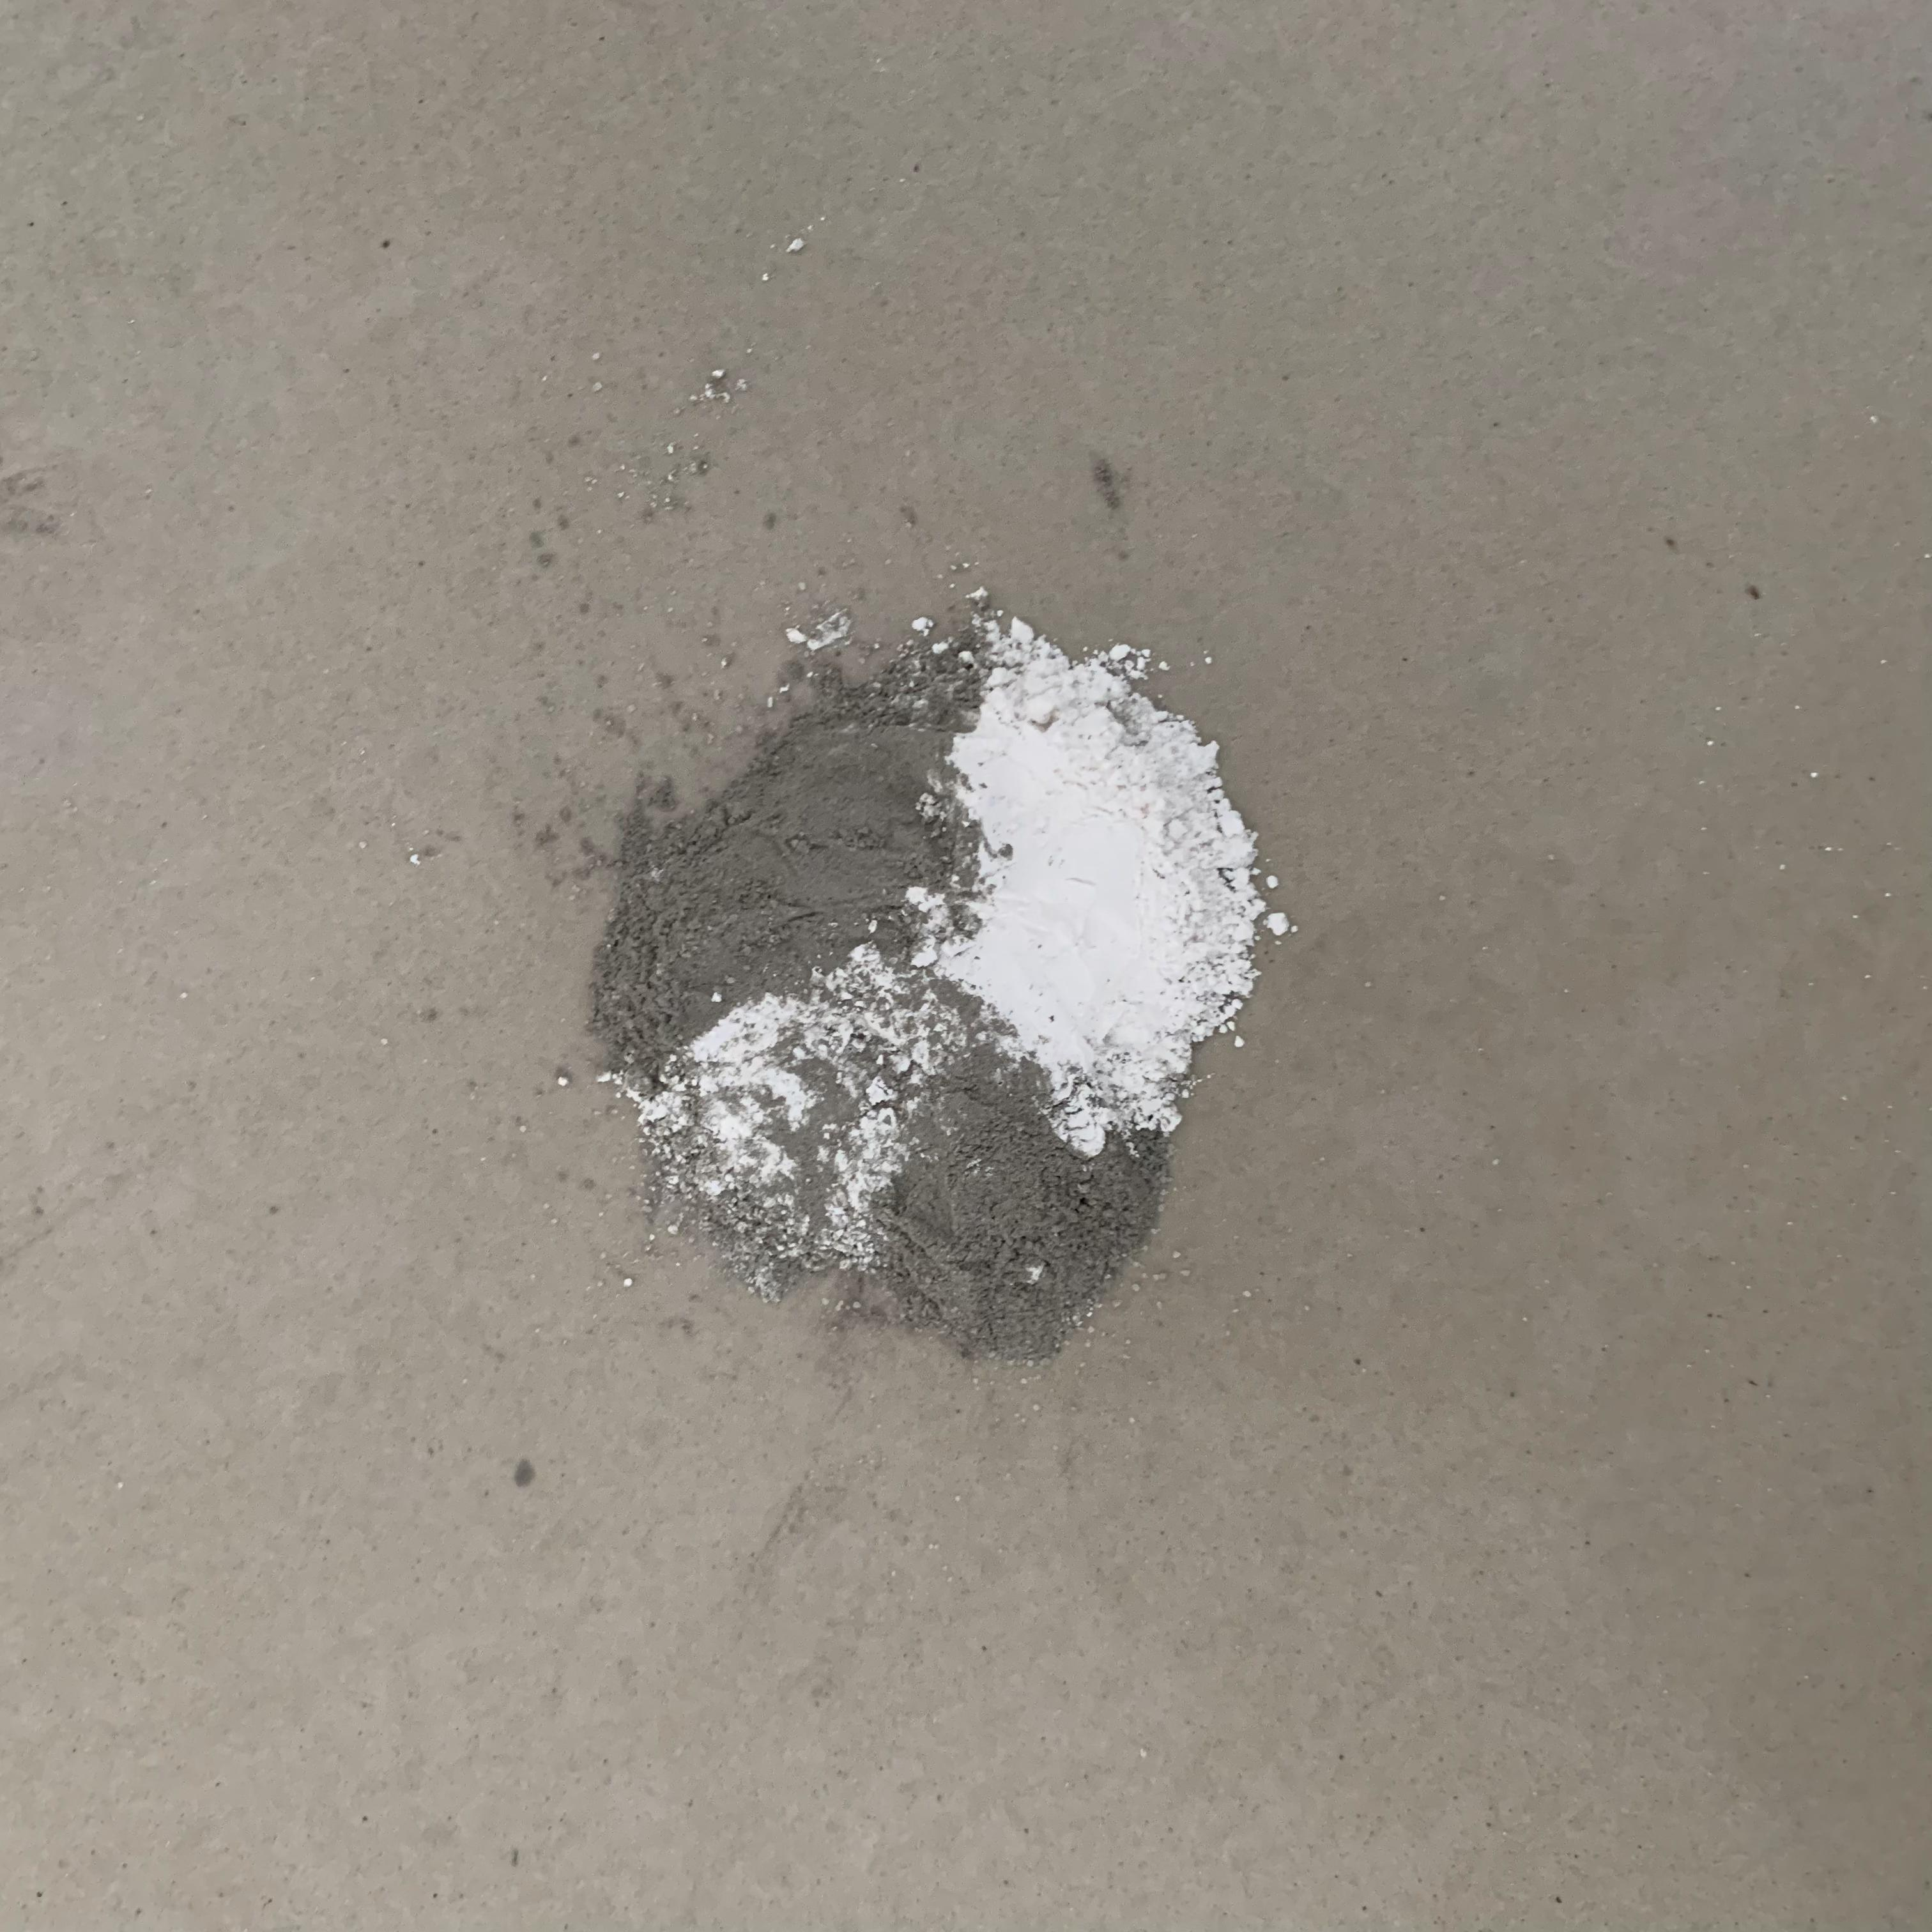ash pile: (529, 582, 1295, 1368)
